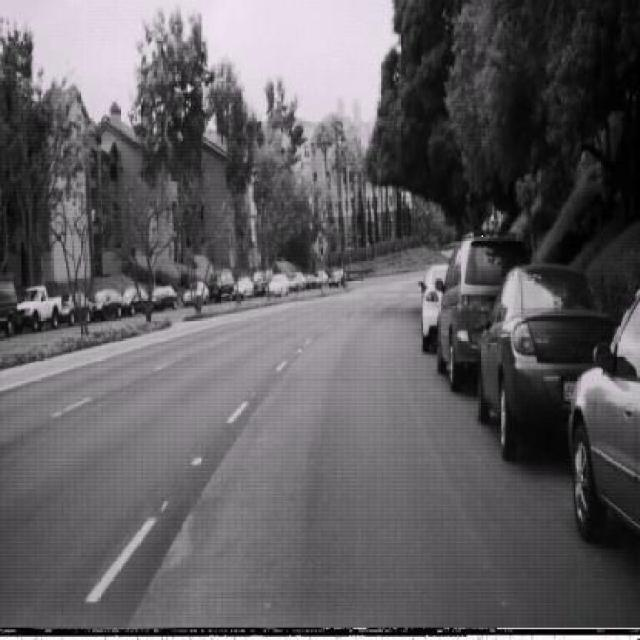signalAhead: (312, 228, 330, 262), (480, 212, 495, 239)
